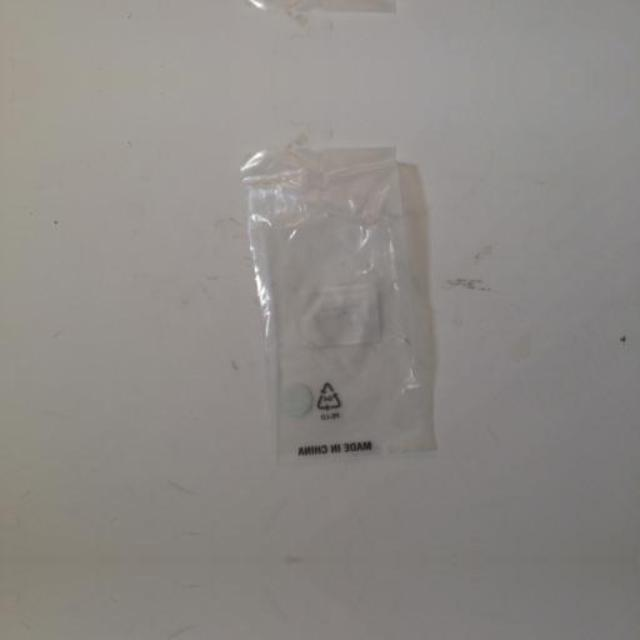Plastic: (180, 129, 478, 489), (180, 0, 477, 31), (180, 631, 477, 640)
